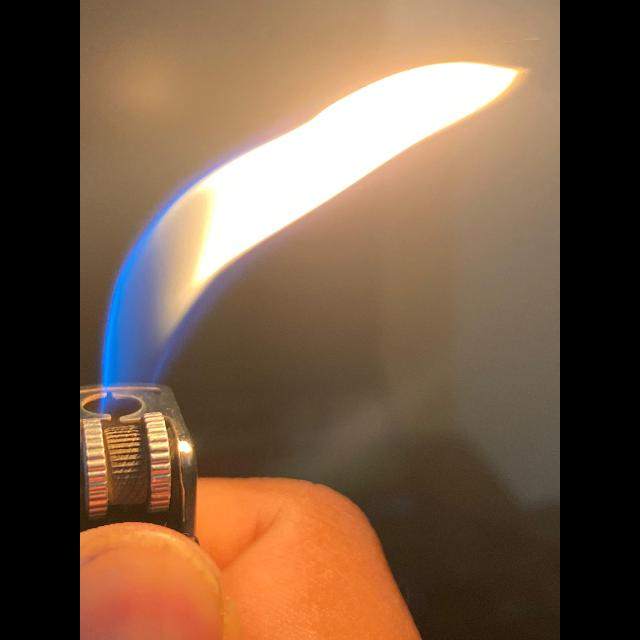fire: (102, 62, 520, 385)
